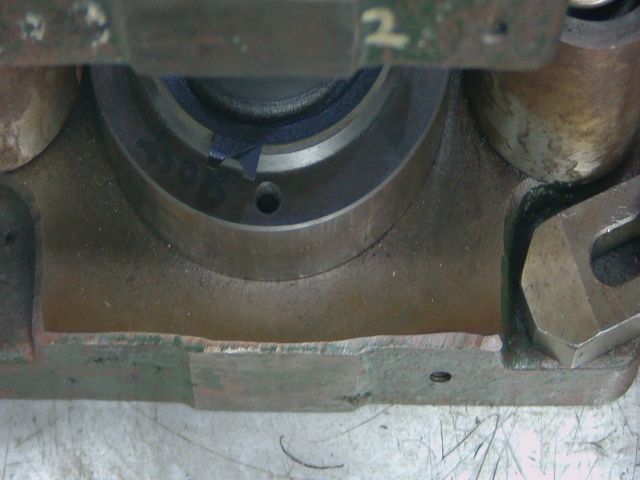NG: (204, 134, 275, 187)
